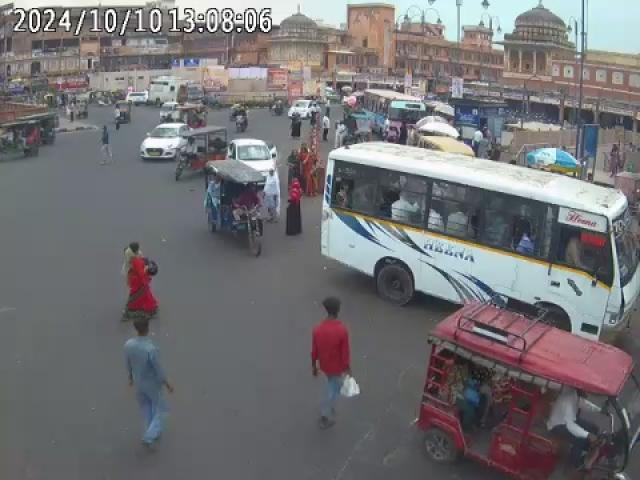auto: (415, 301, 640, 480), (202, 159, 273, 256), (177, 128, 231, 181), (3, 109, 58, 149), (178, 102, 206, 128), (116, 100, 134, 123)
bus: (324, 141, 640, 337), (364, 90, 428, 138)
car: (142, 122, 194, 160)
person: (122, 314, 174, 470), (310, 292, 360, 433), (122, 234, 162, 325), (99, 126, 112, 161)
